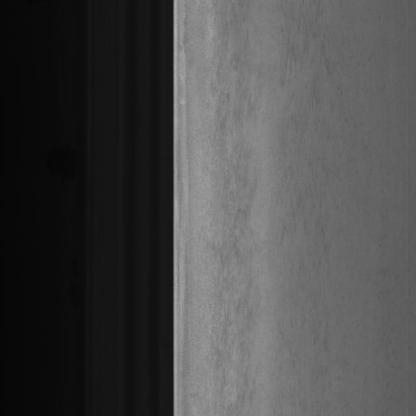silk_spot: (206, 55, 262, 399)
